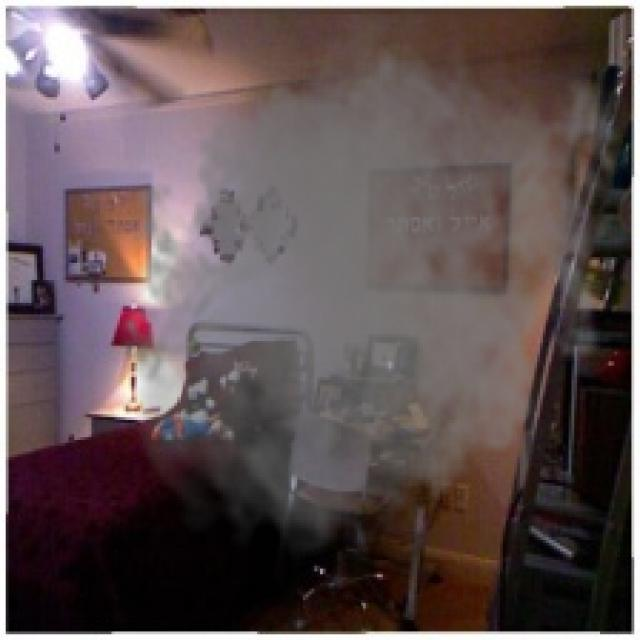Smoke: (111, 14, 634, 577)
